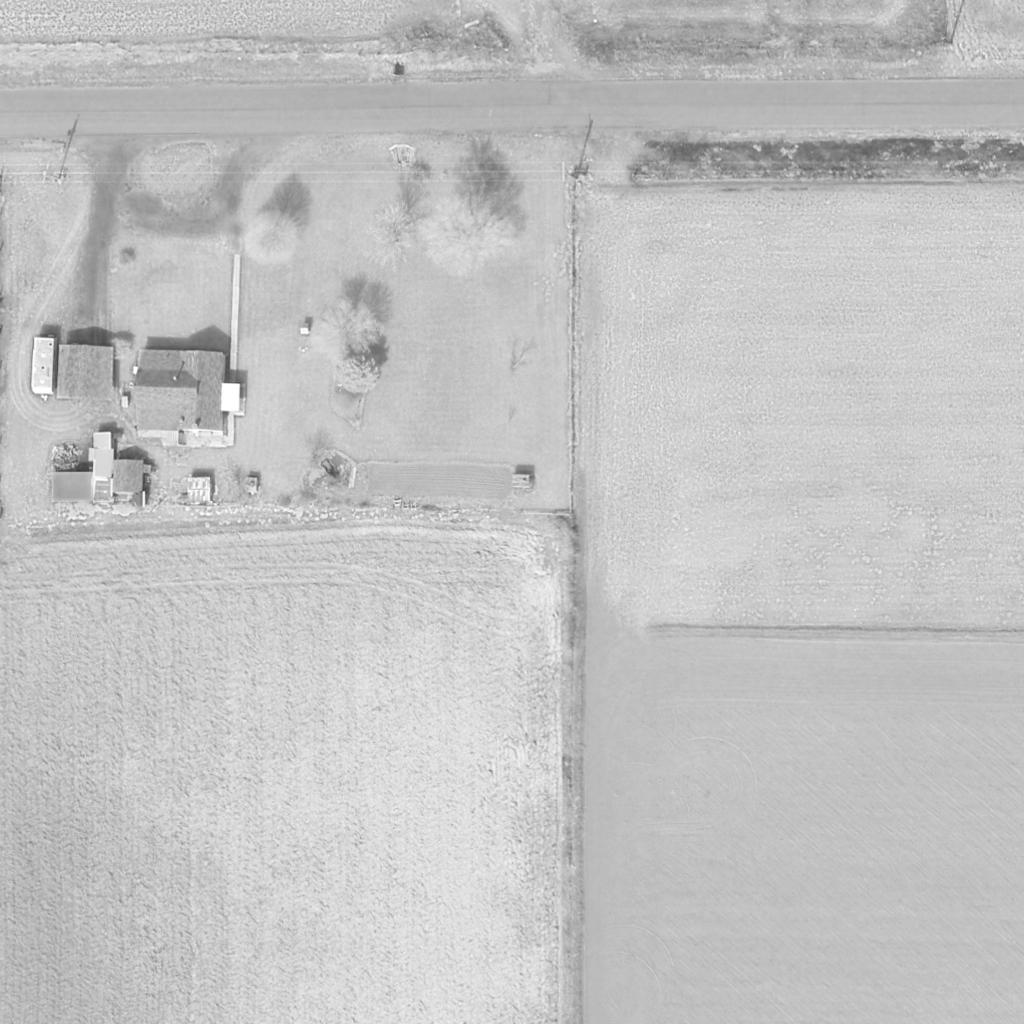vehicle: (29, 336, 57, 404)
